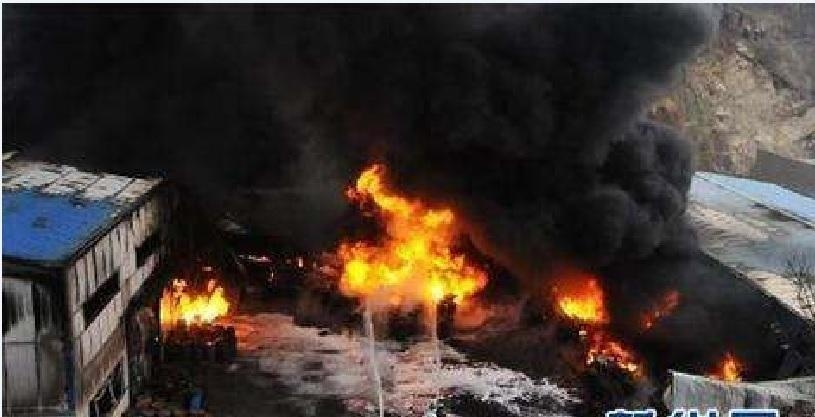fire: (338, 166, 486, 306), (555, 276, 660, 371), (159, 270, 229, 329), (715, 353, 741, 381)
